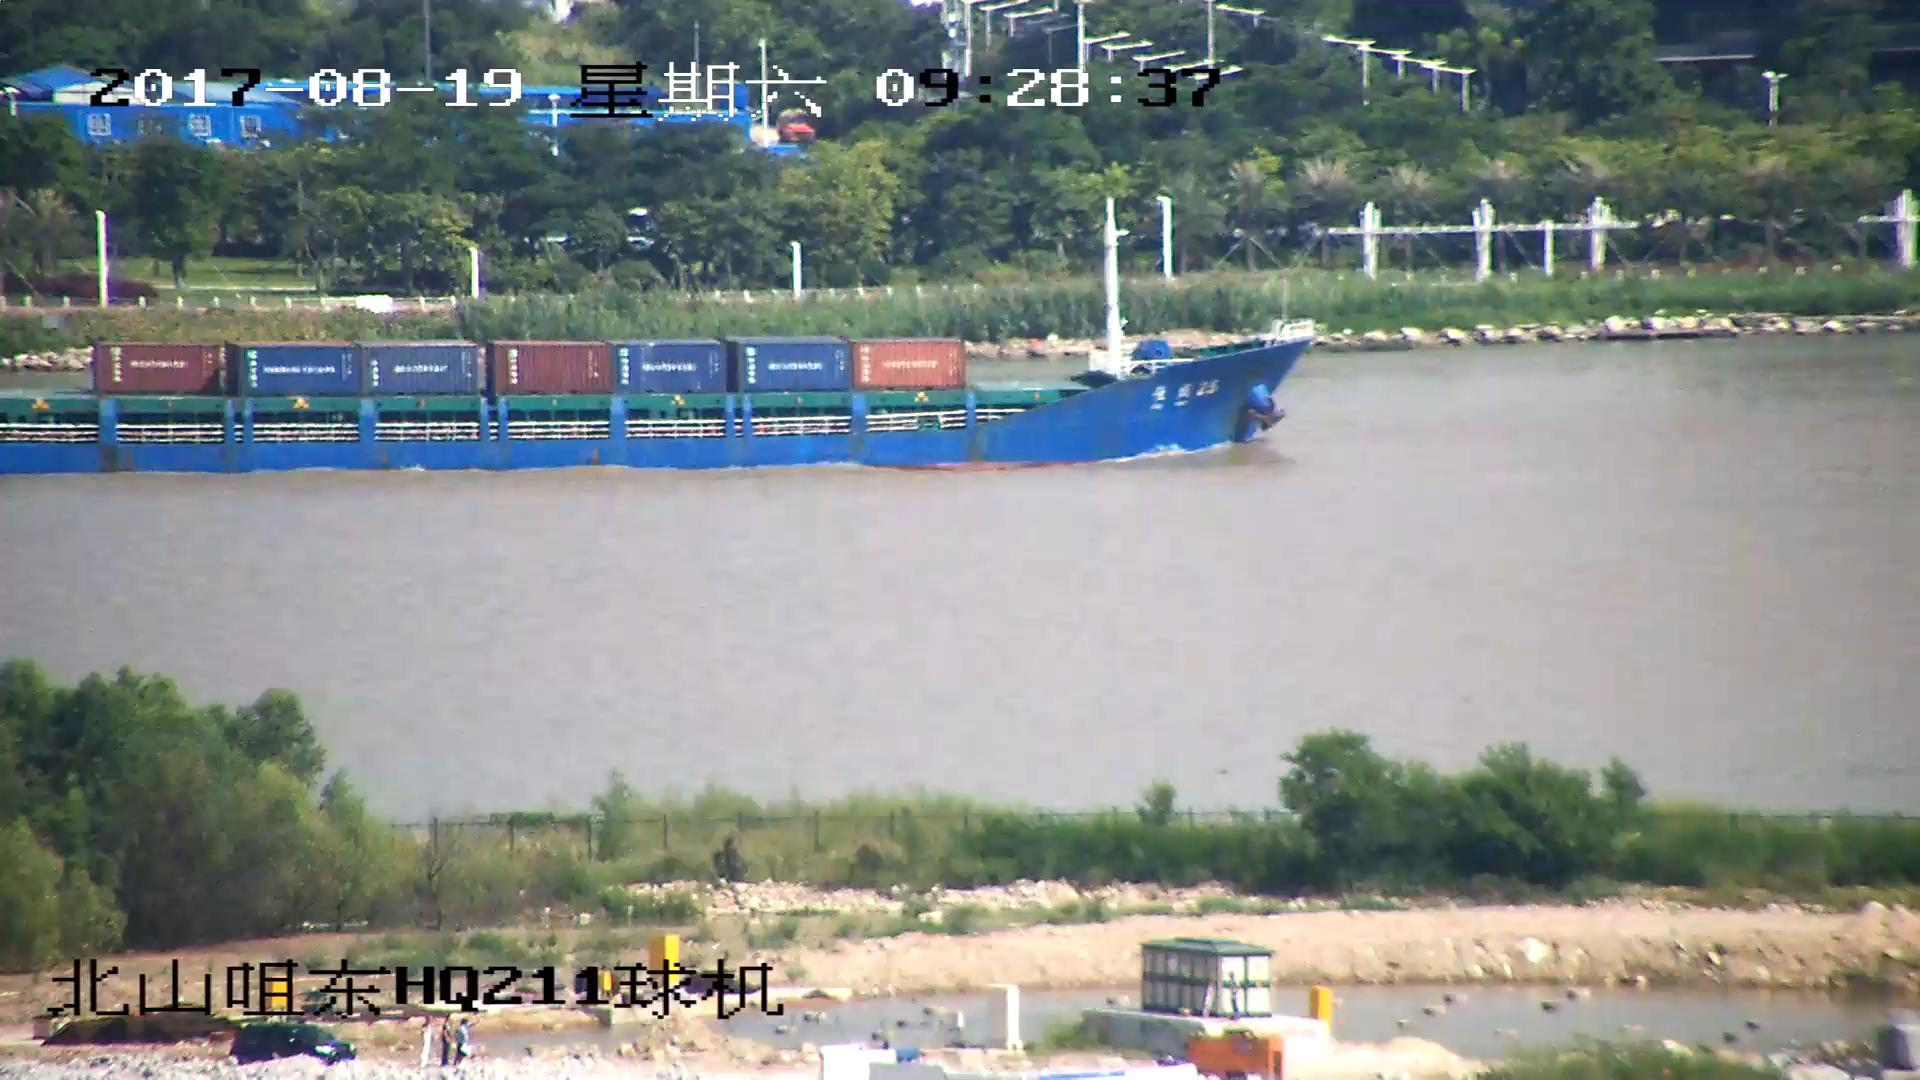Ship: (3, 200, 1309, 468)
